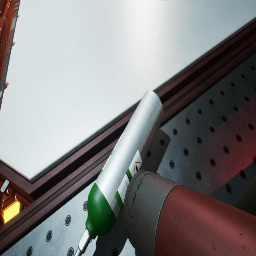0: (74, 90, 164, 256)
NitrogenTank ,: (123, 169, 256, 256)
